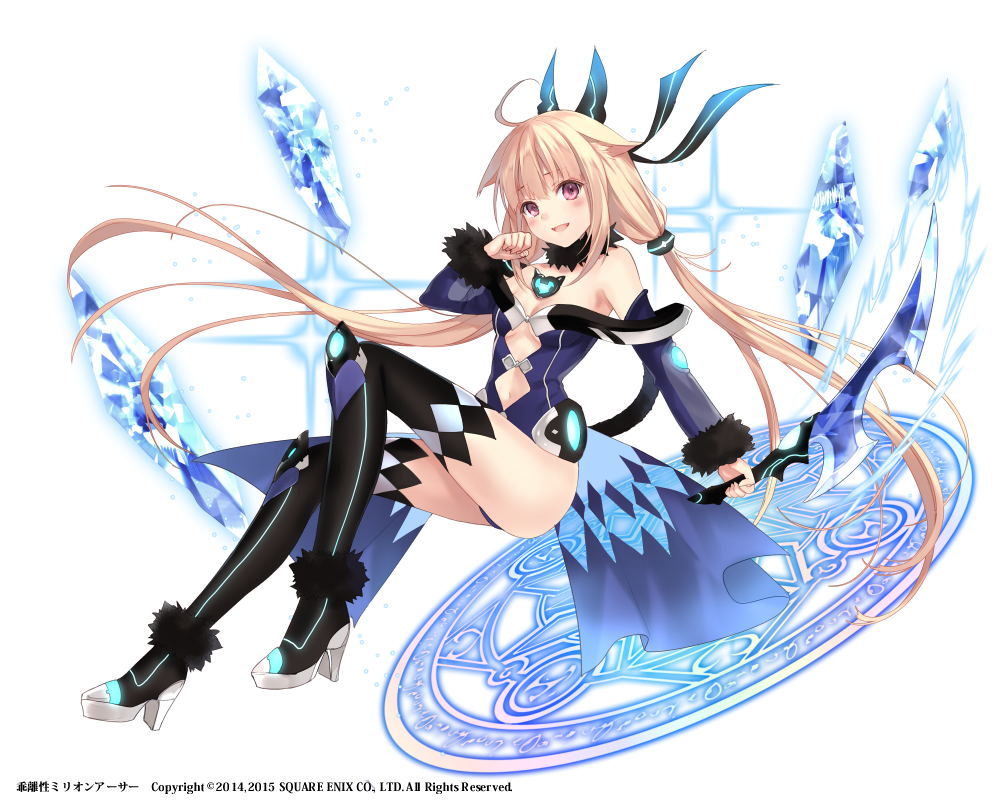纸片人正脸: (480, 108, 654, 269)
